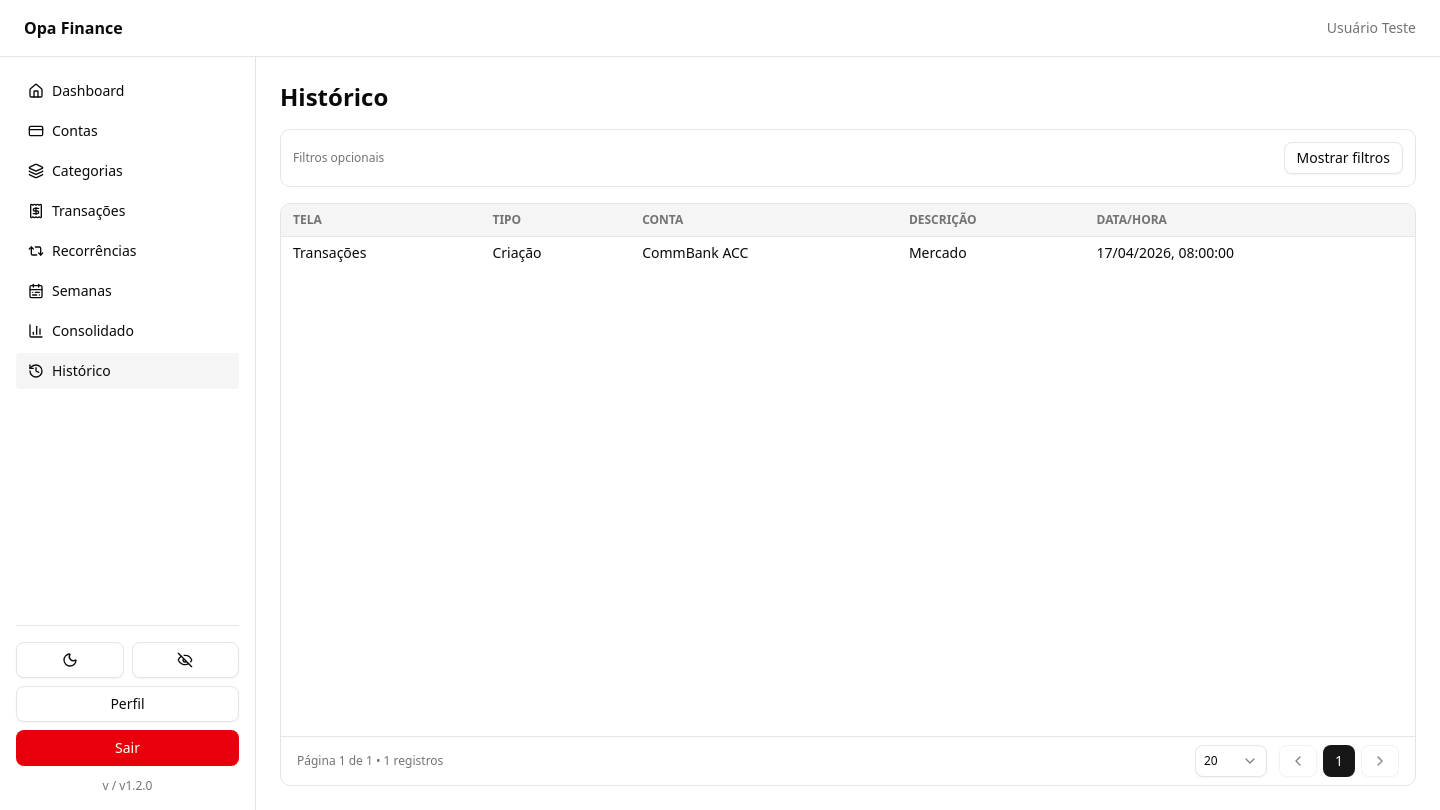
audit feature › deve listar logs e abrir detalhe por clique na linha
Expected: the heading "Histórico" is shown, left=280, top=80, right=388, bottom=113
Expected: the text "CommBank ACC" is shown, left=630, top=236, right=897, bottom=269
Click the text "Mercado". click: coordinates (938, 252)
box: left=897, top=236, right=1085, bottom=269
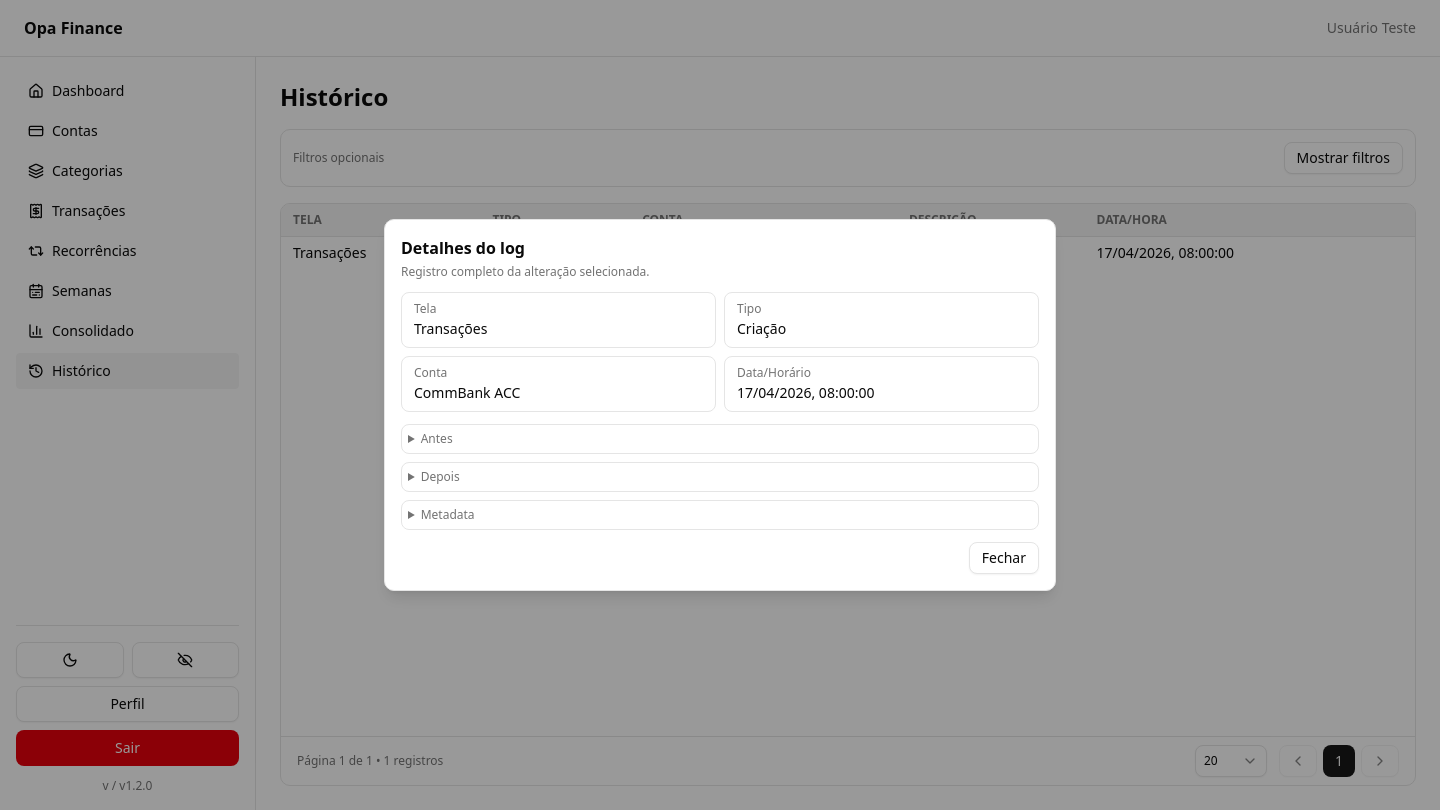
Now the heading "Detalhes do log" is shown, box left=401, top=237, right=525, bottom=259
Now the heading "Antes" is shown, box left=421, top=430, right=453, bottom=447
Now the heading "Depois" is shown, box left=421, top=468, right=460, bottom=485
